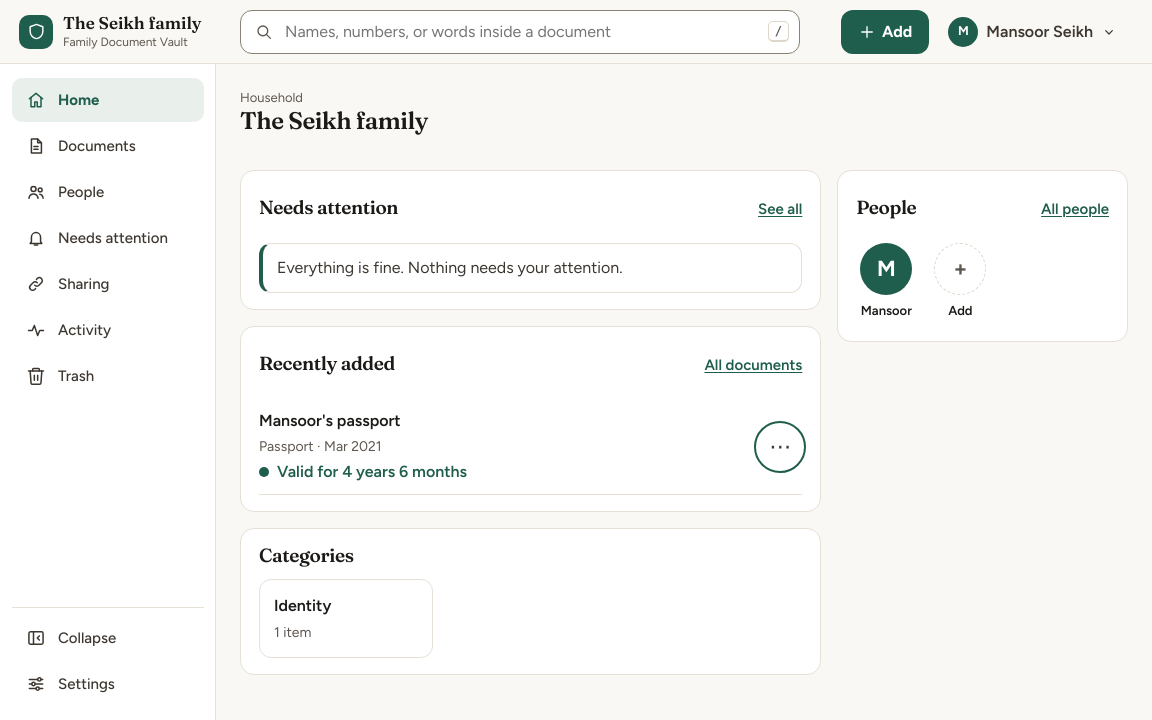
Test: quick actions on every document (5.4) › Escape and Cancel leave the Share sheet open while the link is being made
This screenshot has width=1152, height=720.
Click the button named "Actions for “Mansoor's passport”" at (780, 447), box [758,425,802,469]
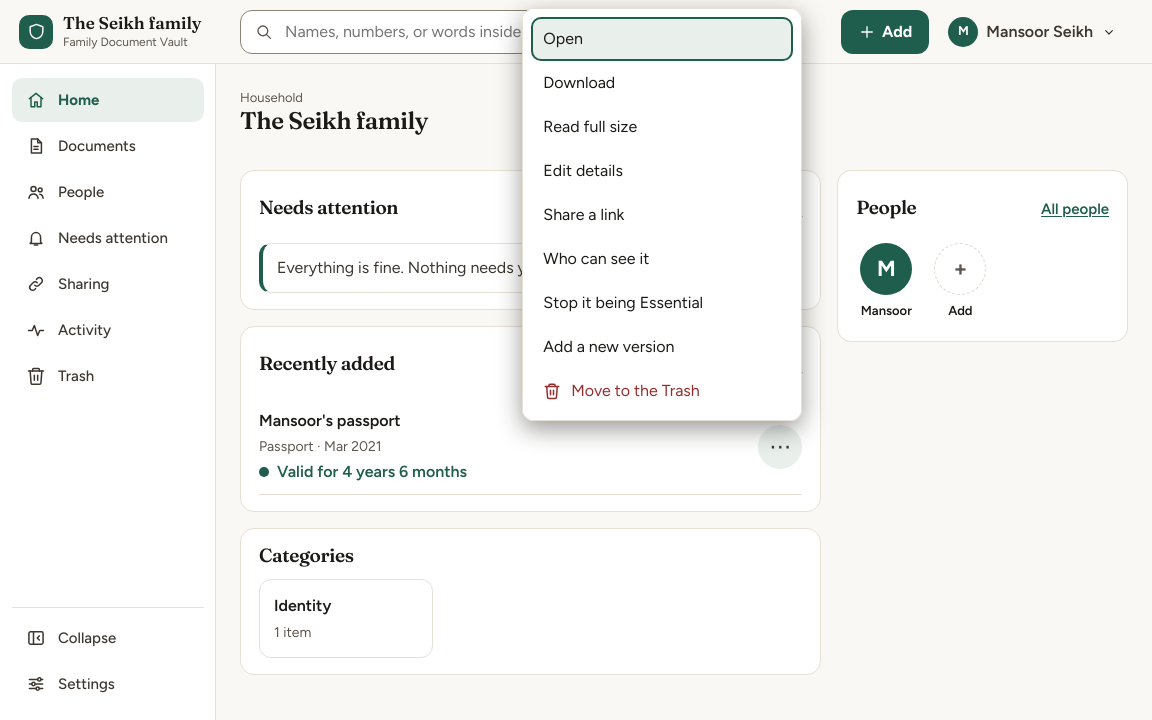
Click the menu item "Share a link" at (584, 214), box [531,193,793,237]
(page scrolled)
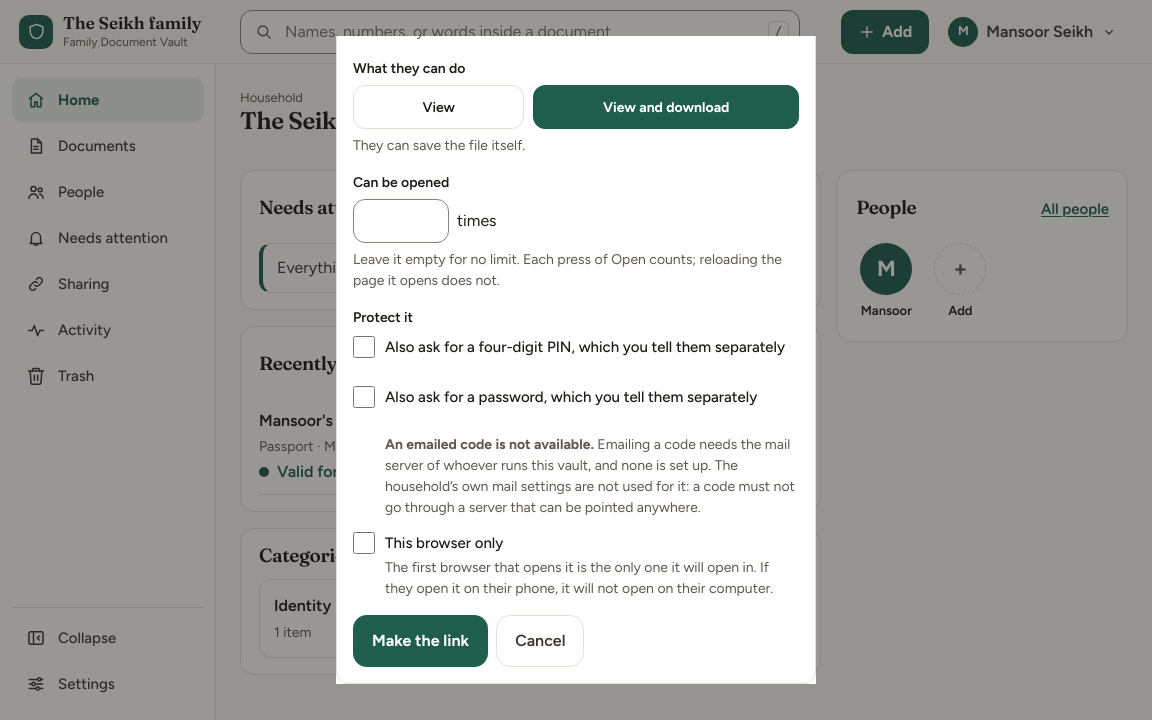
Click the button "Make the link" at (421, 641), box [353,615,488,667]
(page scrolled)
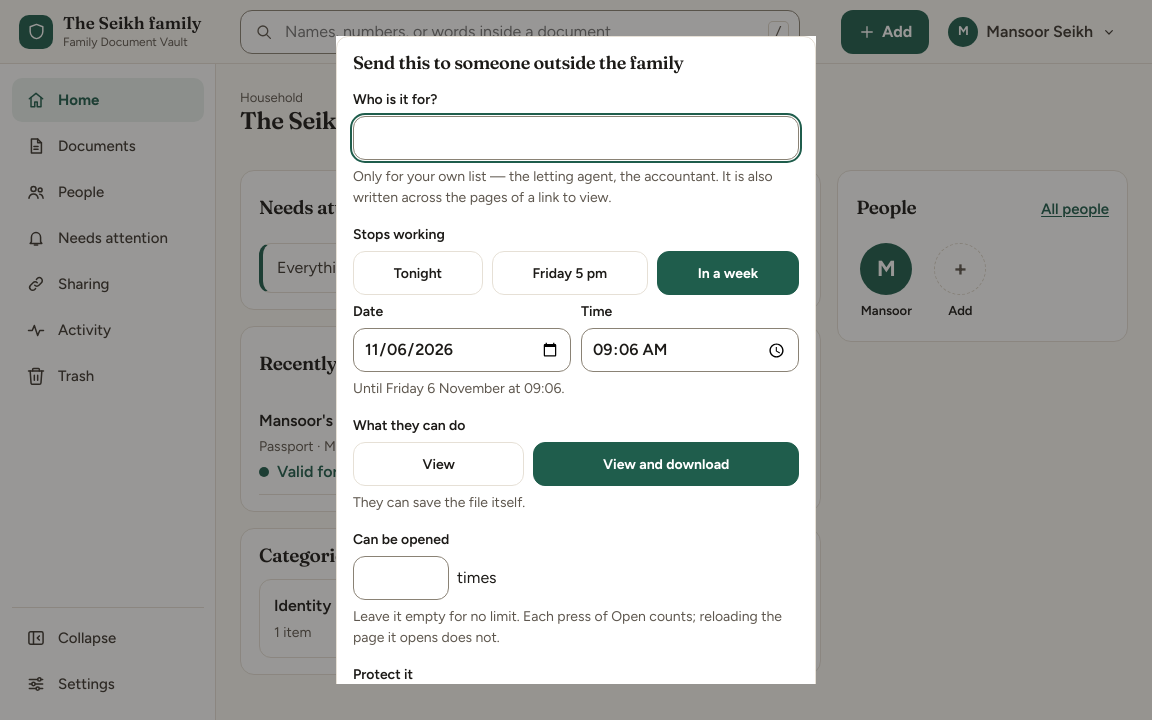
Press Escape in the field labelled "Who is it for?", box [353,116,799,160]
(page scrolled)
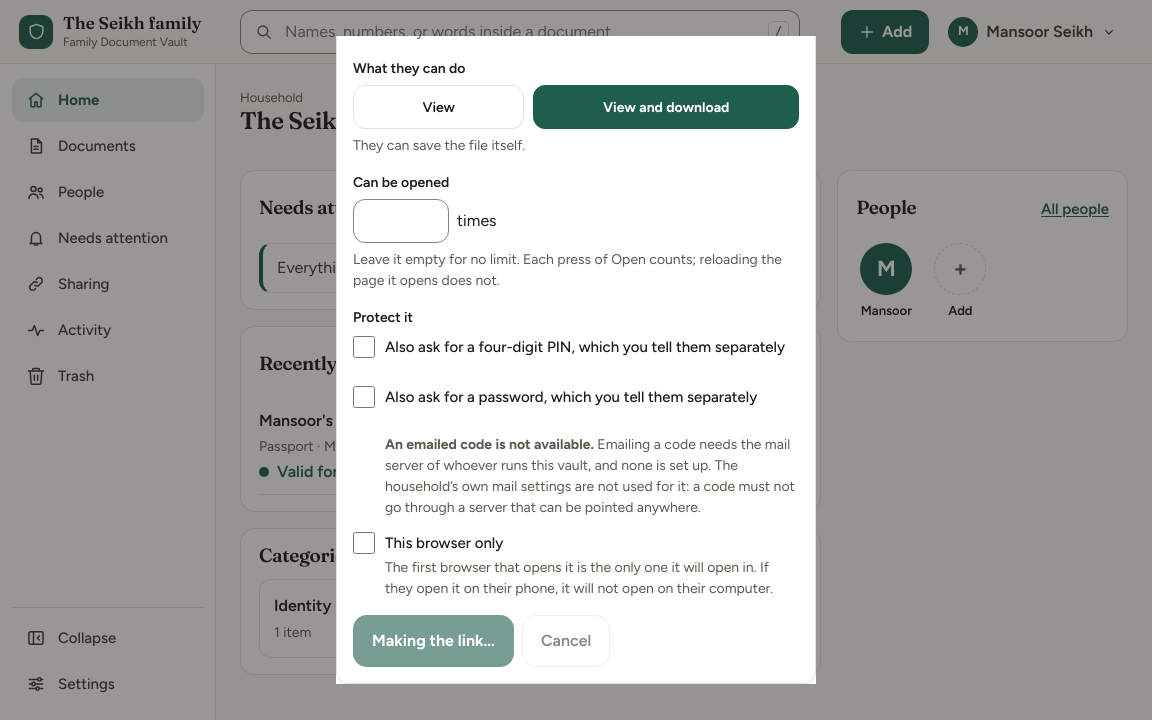
Check: the button "Cancel" is disabled
Click the button "Cancel" at (566, 641), box [522,615,610,667]
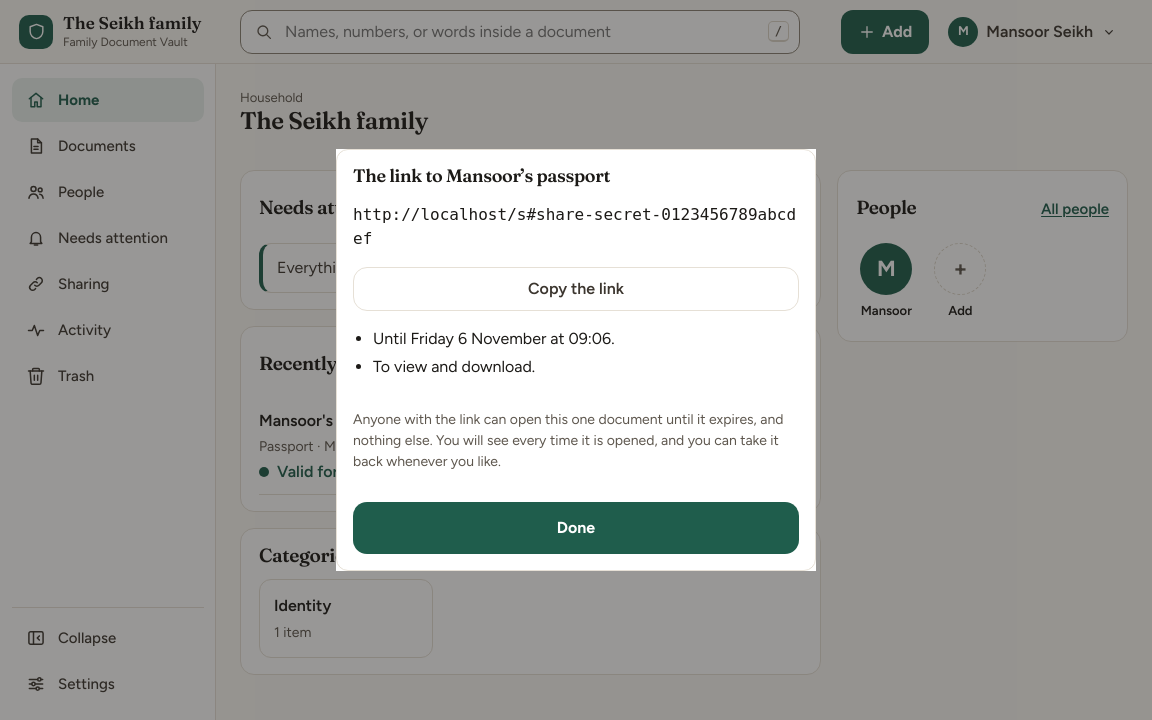
Check: the text "http://localhost/s#share-secret-0123456789abcdef" is shown, box [353,203,799,251]
